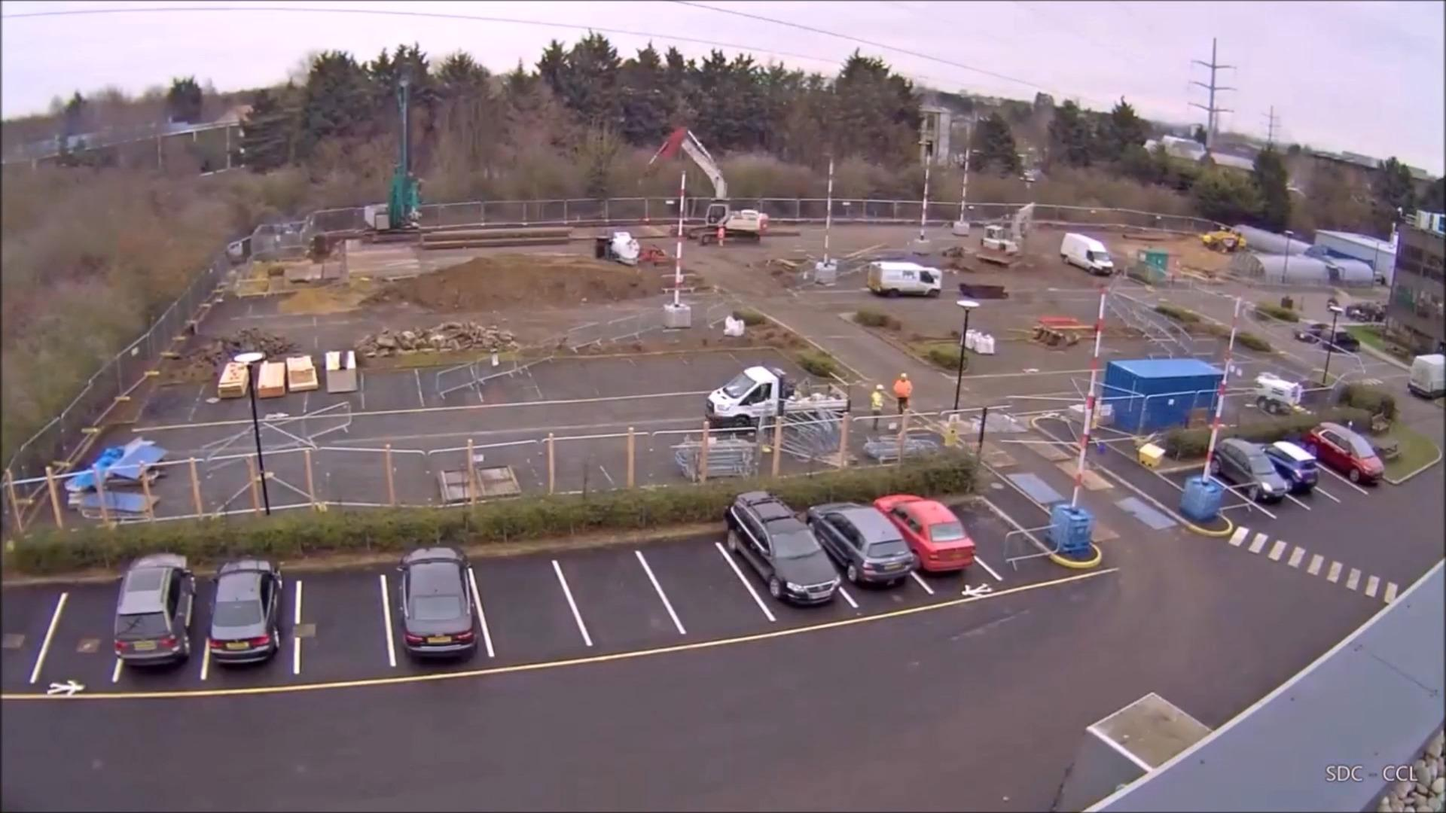free: (672, 556, 720, 615), (603, 570, 651, 629), (505, 573, 553, 632), (982, 507, 1030, 566), (321, 586, 369, 644)
occupied: (394, 544, 480, 660), (113, 554, 197, 669), (206, 558, 285, 667), (1298, 408, 1366, 495), (743, 505, 810, 592), (826, 495, 893, 582), (887, 487, 954, 574), (1211, 436, 1295, 502)
